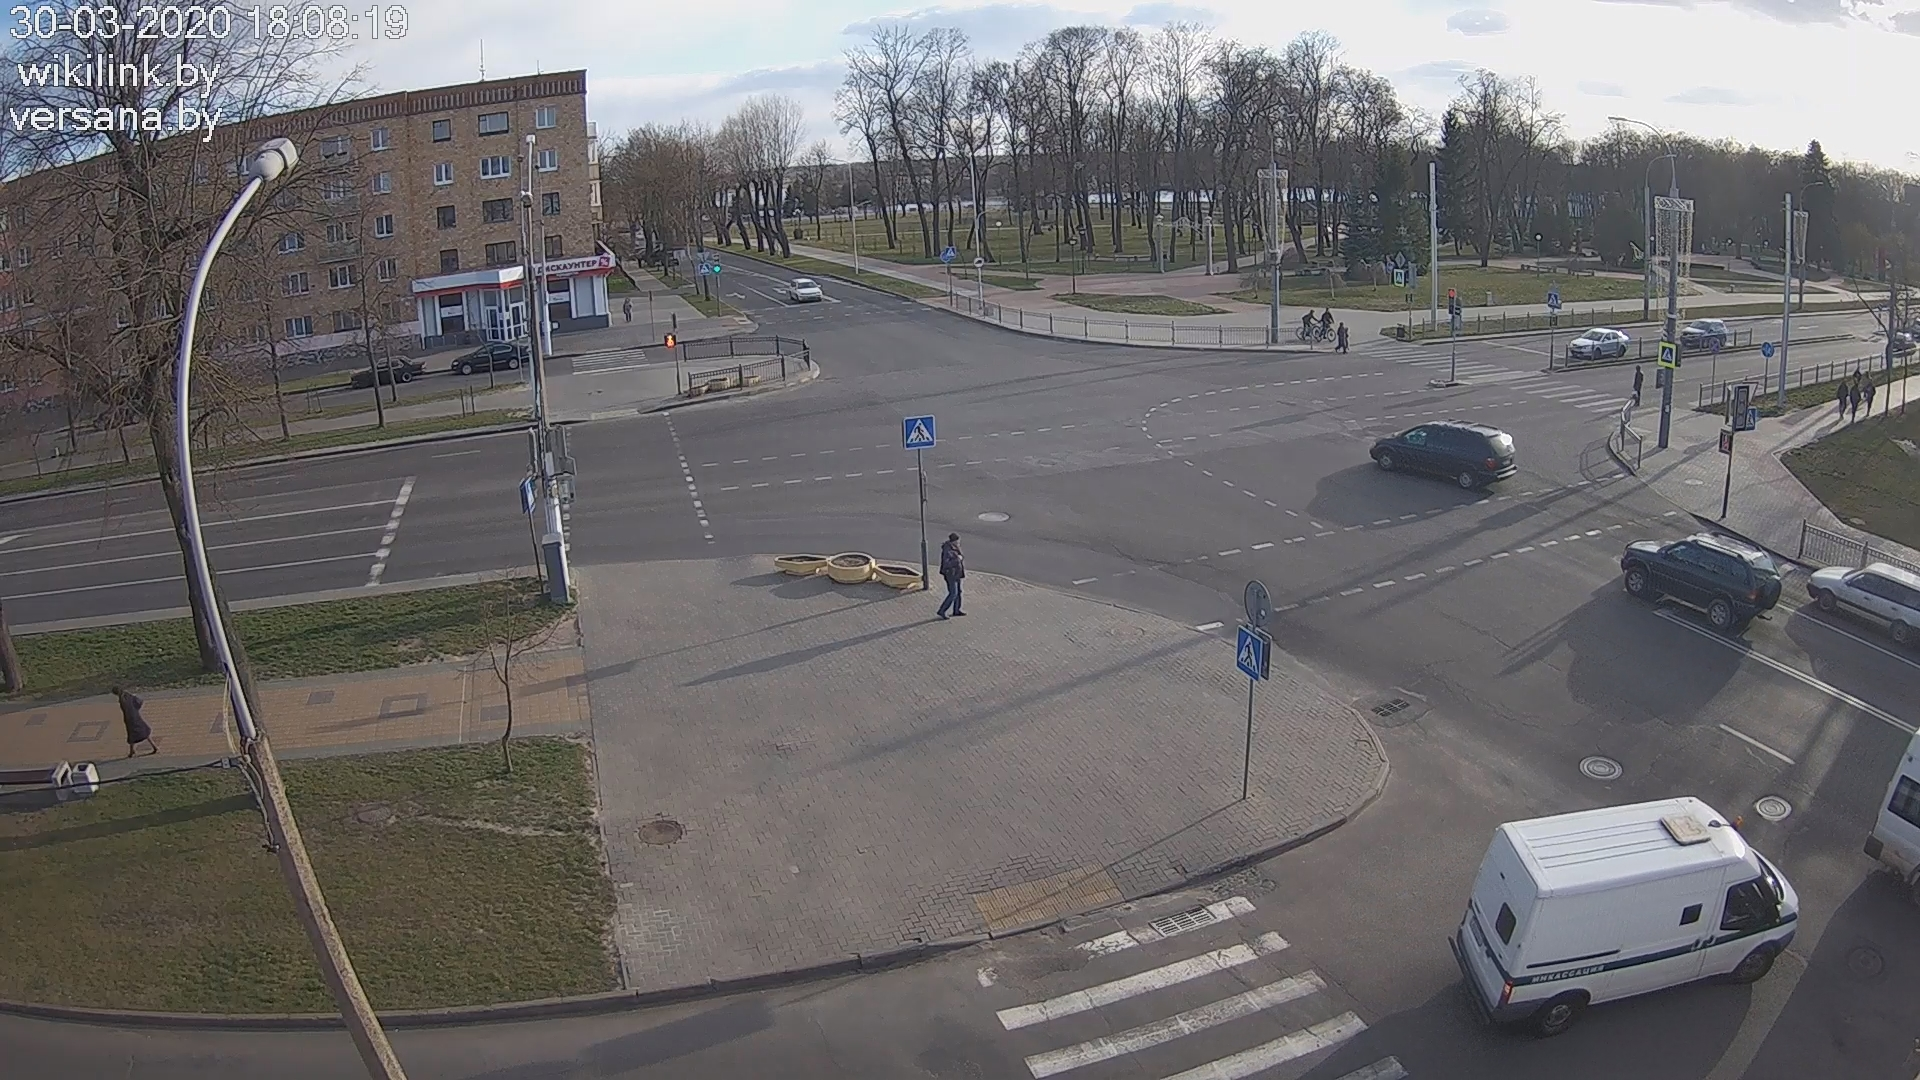car: (1451, 796, 1803, 1035), (1622, 531, 1782, 630), (1369, 419, 1516, 491), (1807, 560, 1920, 646), (451, 342, 529, 376), (349, 355, 427, 389), (1569, 327, 1629, 357), (1680, 318, 1727, 348), (789, 277, 822, 302)
